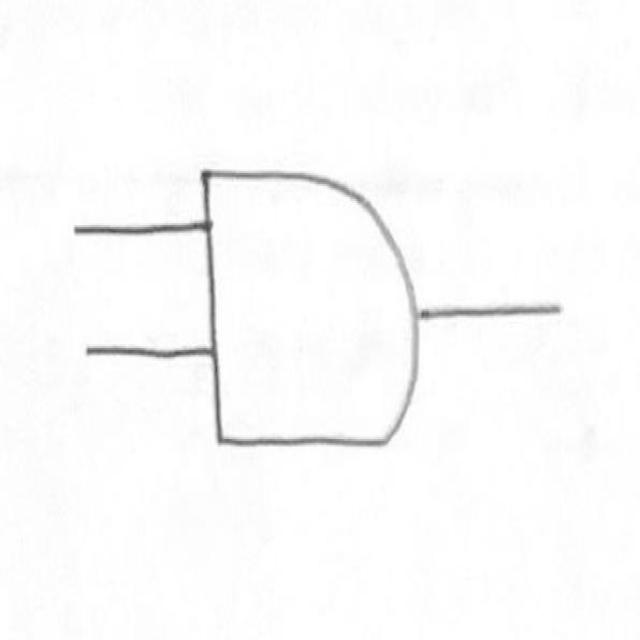AND: (178, 147, 450, 516)
